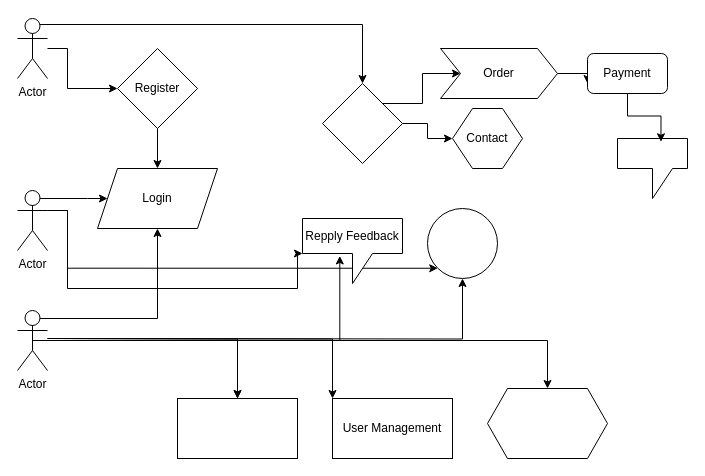
Some shapes in this 705 by 476 pixel diagram are drawn without their labels. Each missing label, with the box of its shape:
Approve Order: (426, 208, 498, 278)
FeedBack: (616, 138, 688, 198)
Manage Products: (176, 398, 298, 458)
Manager Supplier: (486, 388, 608, 458)
View Home: (322, 82, 402, 164)
